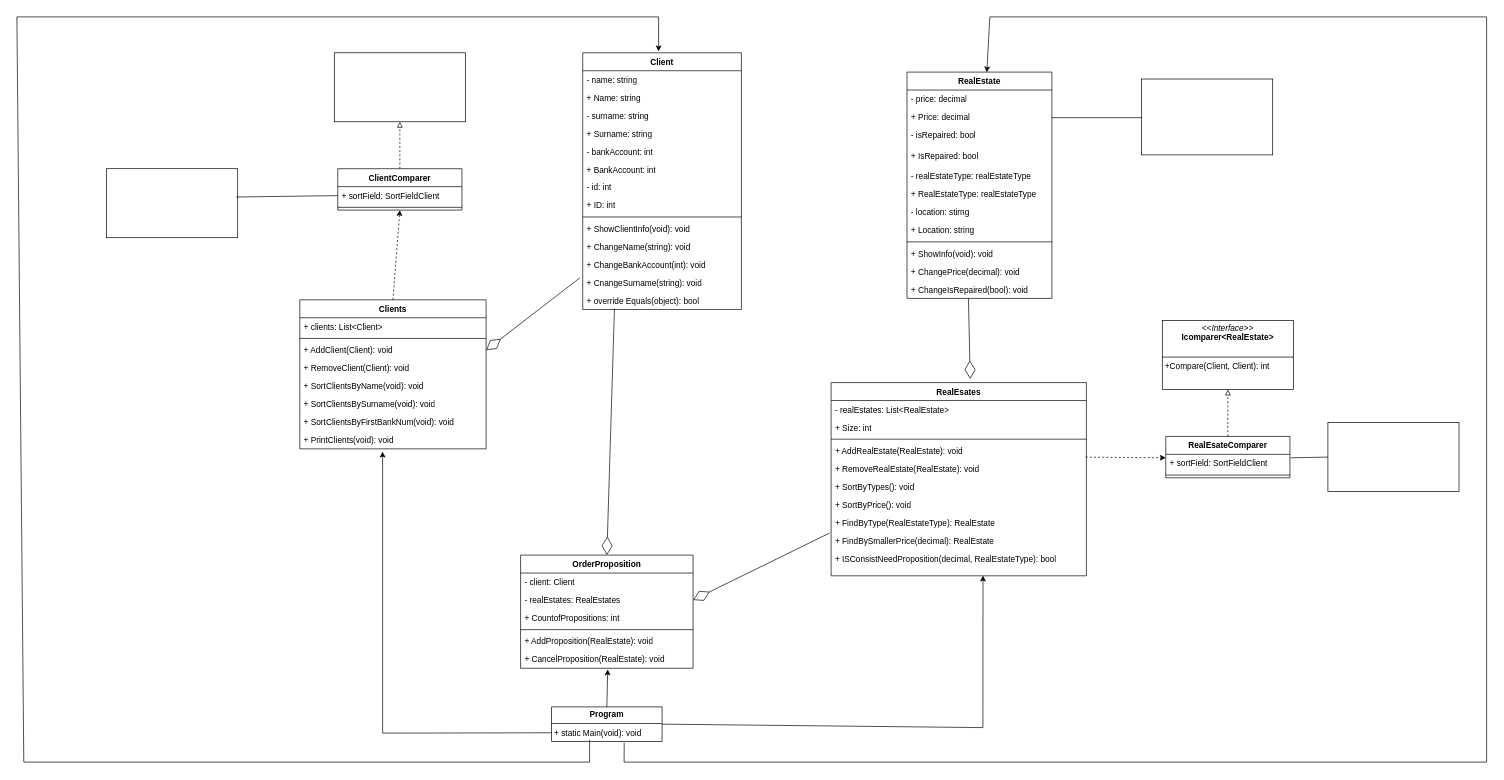
Image size: 1504x780. Some labels were removed from this diagram. The shapes that lost their labels are listed below. From the top down, each one's centre as x and y in pixels, then its label:
(399,87): <<Interface>> Icomparer<Client> +Compare(Client, Client): int
(1207,116): <<Enum>> RealEstateType oneRoomFlat, twoRoomFlat, threeRoomFlat, privateHouse
(172,203): <<Enum>> SortField Name, Surname, BankAccount
(1393,457): <<Enum>> SortFieldRealEstate Type, Price
